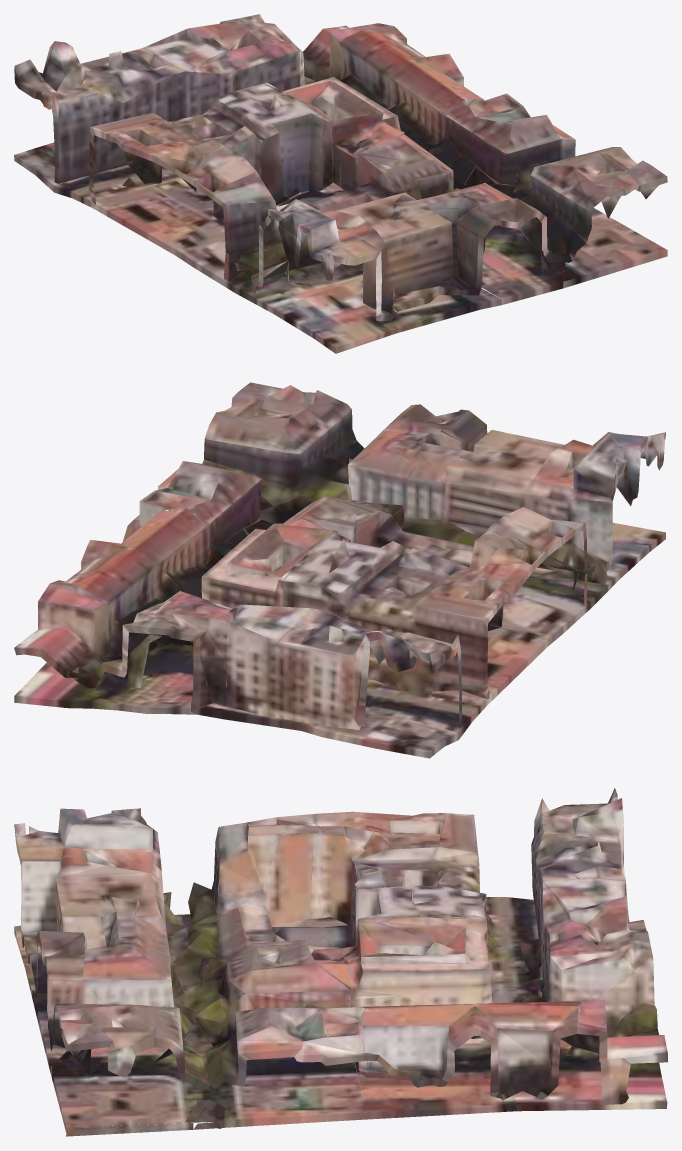
3 views of the same model, one above another, from view 1: azimuth 30°, elevation 25°; view 2: azimuth 150°, elevation 25°; view 3: azimuth 270°, elevation 25° (orthographic). The views are drawn at different scales.
Visible parts, largest first — view 1: Mesh_0; view 2: Mesh_0; view 3: Mesh_0.
Boxes of the visible parts, left/top/right/bottom form: Mesh_0: left=14, top=14, right=667, bottom=353; Mesh_0: left=14, top=382, right=665, bottom=758; Mesh_0: left=14, top=788, right=667, bottom=1136.
Size of the model in its own units: 133 by 39.2 by 165.
Materials: 1 (1 with a texture image).
